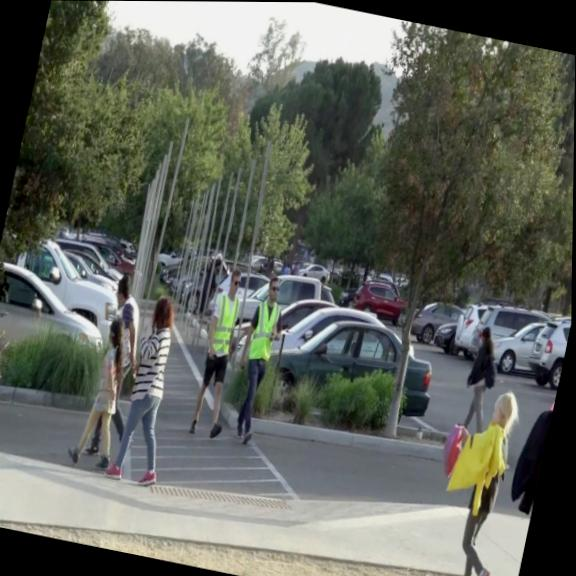safety_vest: (246, 297, 282, 361), (207, 292, 240, 354)
